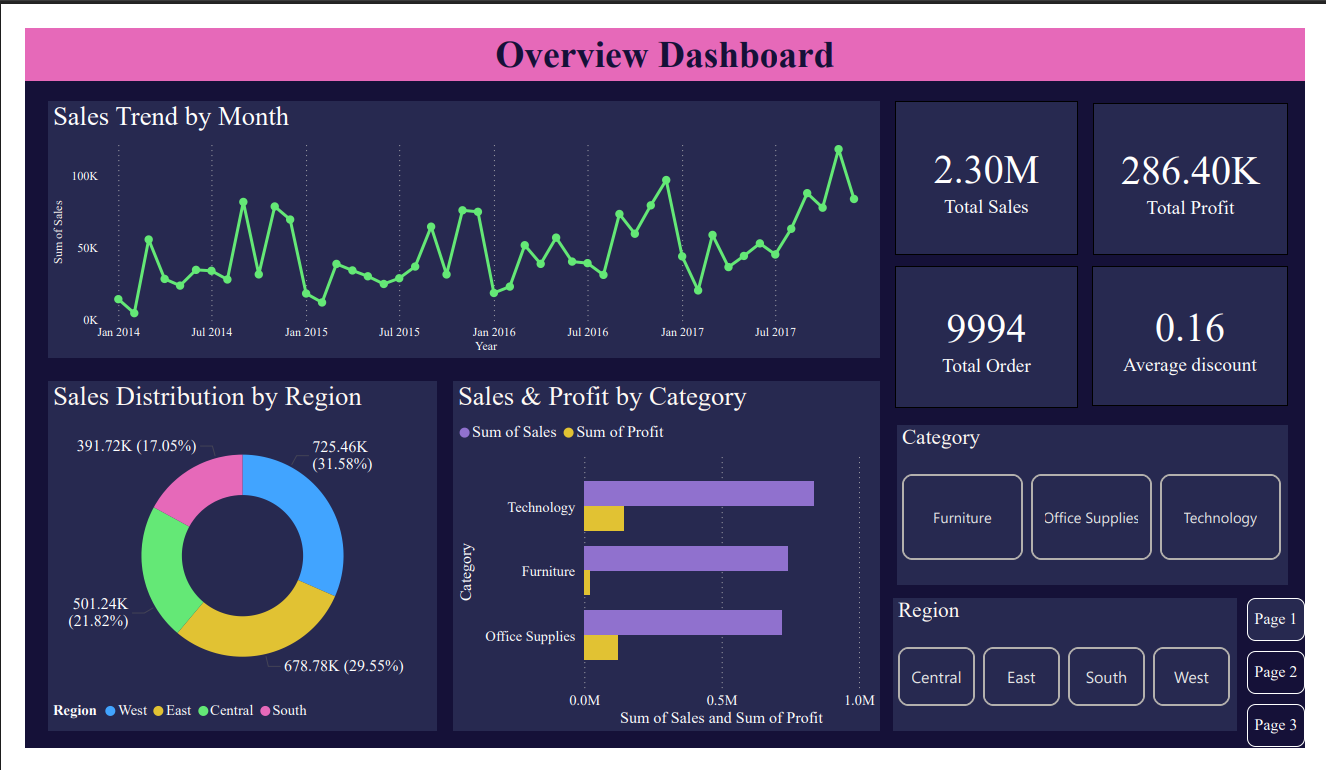

What the dashboard file says about the page in this screenshot:
{"tool":"powerbi","page":{"name":"Page 1","canvas":[1280,720],"ordinal":0},"visuals":[{"type":"card","fields":{"Values":["Orders.Total Sales"]},"box":[870,73.3,183.3,153.3],"z":0},{"type":"card","fields":{"Values":["Orders.Total Profit"]},"box":[1068.3,75,195,151.7],"z":1000},{"type":"card","fields":{"Values":["Orders.Total Order"]},"box":[870,238.3,183.3,141.7],"z":2000},{"type":"card","fields":{"Values":["Orders.Average discount"]},"box":[1066.7,238.3,196.7,140],"z":3000},{"type":"lineChart","title":"Sales Trend by Month","fields":{"Y":["Sum(Orders.Sales)"],"Category":["Orders.Order Date.Variation.Date Hierarchy.Year","Orders.Order Date.Variation.Date Hierarchy.Month"]},"box":[23.3,73.3,831.7,256.7],"z":4000},{"type":"donutChart","title":"Sales Distribution by Region","fields":{"Y":["Sum(Orders.Sales)"],"Category":["Orders.Region"]},"box":[23.3,353.3,388.3,350],"z":5000},{"type":"clusteredBarChart","title":"Sales & Profit by Category","fields":{"Y":["Sum(Orders.Sales)","Sum(Orders.Profit)"],"Category":["Orders.Category"]},"box":[428.3,353.3,426.7,350],"z":6000},{"type":"advancedSlicerVisual","fields":{"Values":["Orders.Category"]},"box":[871.7,396.7,391.7,160],"z":7000},{"type":"advancedSlicerVisual","fields":{"Values":["Orders.Region"]},"box":[868.3,570,343.3,133.3],"z":8000},{"type":"textbox","box":[0,0,1280,53.3],"z":9000},{"type":"pageNavigator","box":[1221.7,570,58.3,150],"z":10000}]}

Visuals, with their boxes on the page's 1280x720 design canvas (x1, y1, x2, y2). These are canvas units, not pixel positions in the 1326x770 screenshot, which may show the page scaled, cropped or inside an application window:
card - Orders.Total Sales: <region>870, 73, 1053, 227</region>
card - Orders.Total Profit: <region>1068, 75, 1263, 227</region>
card - Orders.Total Order: <region>870, 238, 1053, 380</region>
card - Orders.Average discount: <region>1067, 238, 1263, 378</region>
"Sales Trend by Month" lineChart: <region>23, 73, 855, 330</region>
"Sales Distribution by Region" donutChart: <region>23, 353, 412, 703</region>
"Sales & Profit by Category" clusteredBarChart: <region>428, 353, 855, 703</region>
advancedSlicerVisual - Orders.Category: <region>872, 397, 1263, 557</region>
advancedSlicerVisual - Orders.Region: <region>868, 570, 1212, 703</region>
textbox: <region>0, 0, 1280, 53</region>
pageNavigator: <region>1222, 570, 1280, 720</region>
